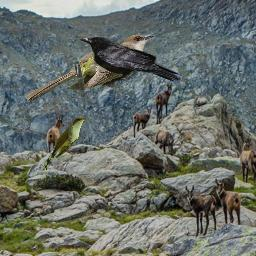Crow: (79, 36, 182, 88)
Cuckoo: (25, 33, 154, 102), (43, 117, 86, 171)
